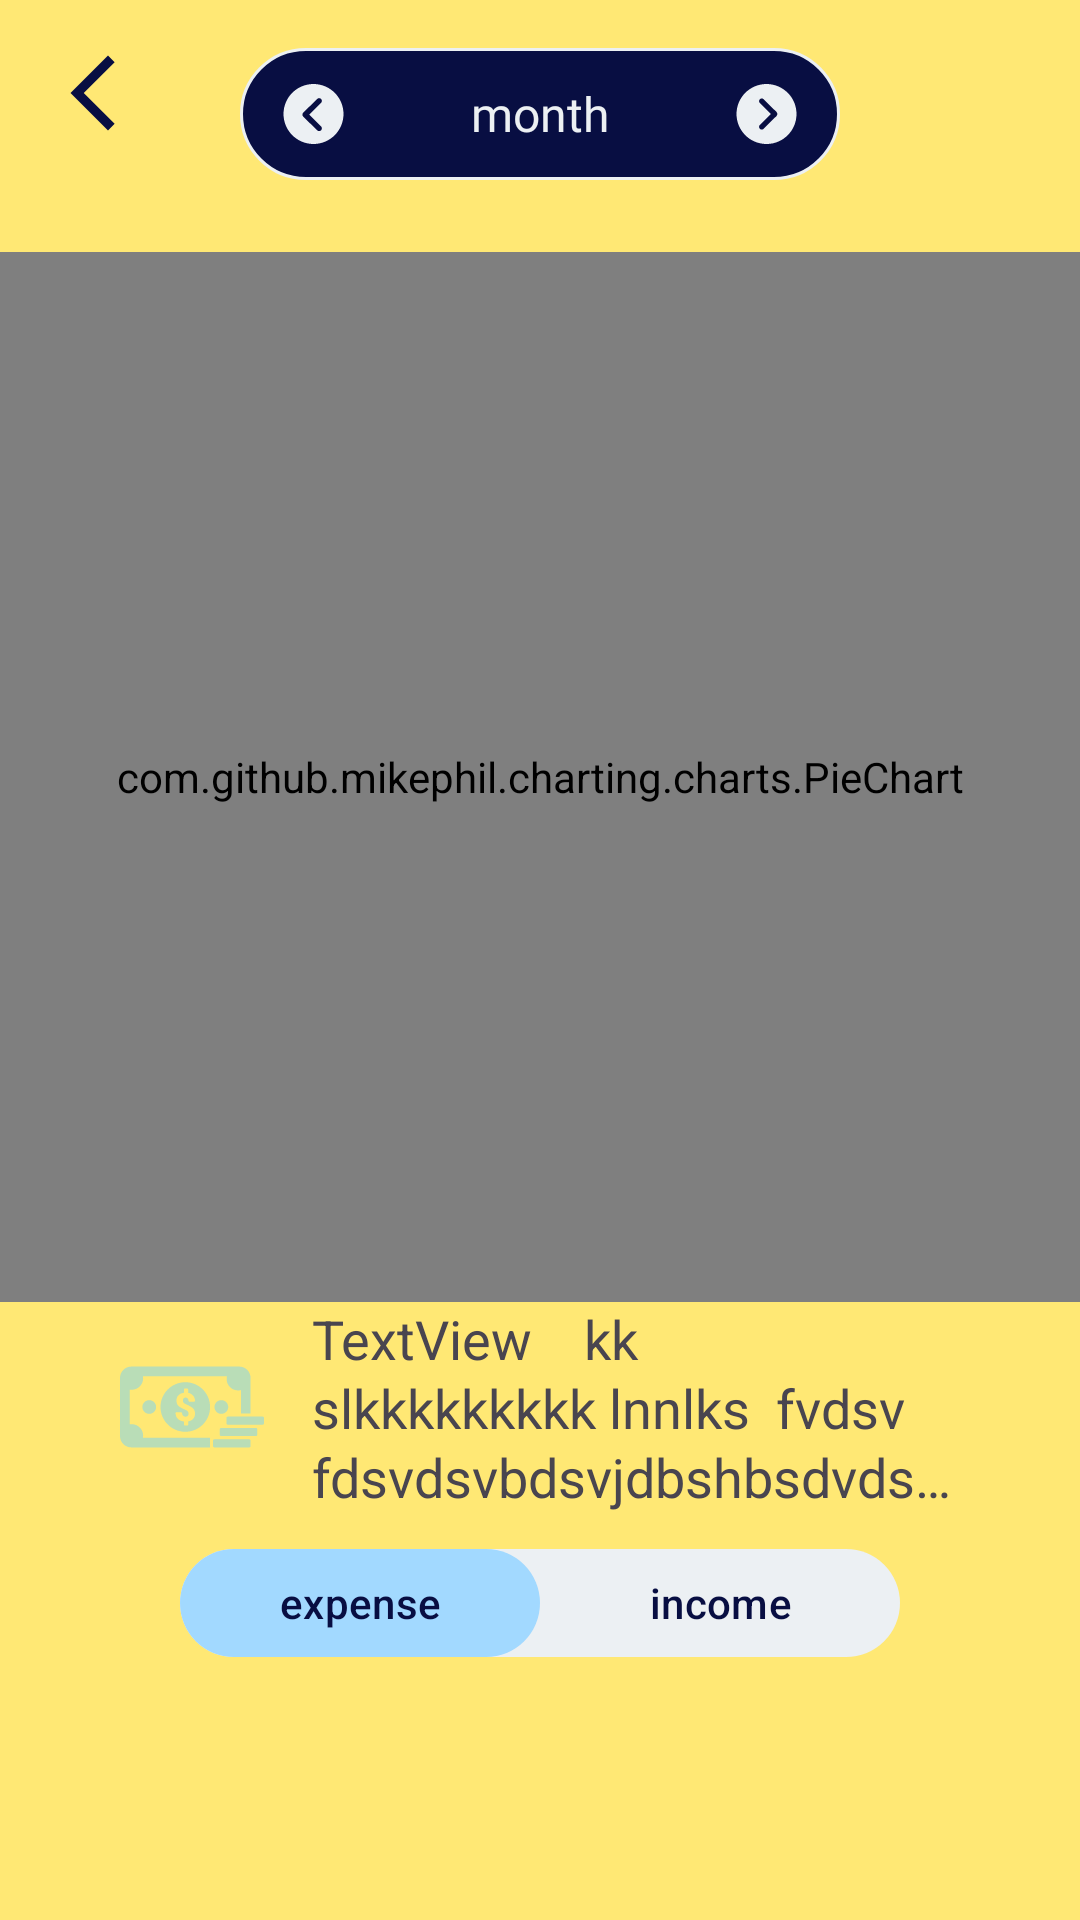

Where icons sit on this 1080 x 1920 app screen, as (x1, y1, x2, y2):
back: (70, 55, 115, 131)
